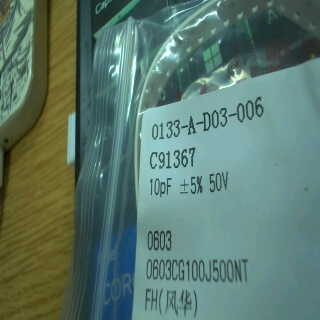10pF: (148, 173, 177, 202)
